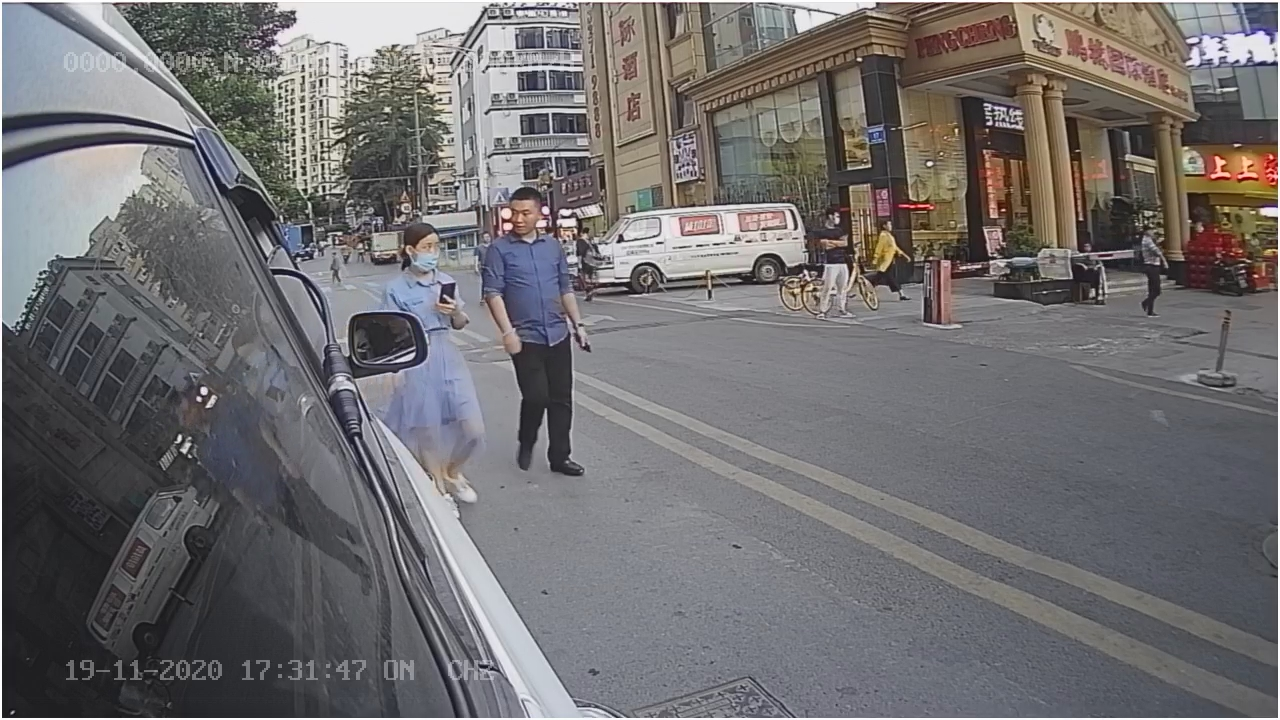person: (484, 190, 591, 472), (370, 215, 465, 310)
